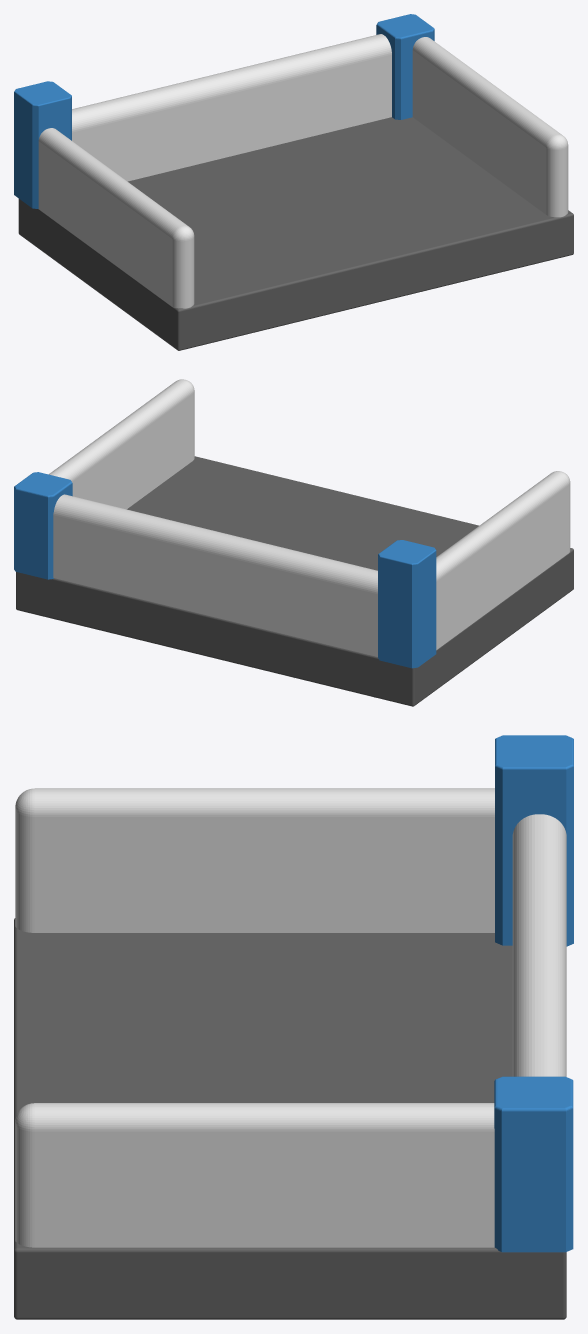
The model's file is LiveRoom.fbx.
3 renders of one model, top to bottom at view 1: azimuth 30°, elevation 25°; view 2: azimuth 150°, elevation 25°; view 3: azimuth 270°, elevation 25°, orthographic. The views are drawn at different scales.
Visible parts, largest first — view 1: Cube, Cube.003, Cube.001, Cube.002, Cube.004, Cube.005; view 2: Cube, Cube.003, Cube.001, Cube.002, Cube.004, Cube.005; view 3: Cube, Cube.001, Cube.002, Cube.003, Cube.005, Cube.004.
Boxes of the visible parts, x1,y1,x2,y2 form: Cube: (18, 117, 573, 350); Cube.003: (72, 34, 391, 181); Cube.001: (38, 128, 194, 308); Cube.002: (412, 37, 568, 217); Cube.004: (14, 81, 71, 208); Cube.005: (376, 14, 434, 119); Cube: (16, 456, 573, 706); Cube.003: (53, 494, 377, 656); Cube.001: (436, 471, 570, 649); Cube.002: (49, 379, 194, 509); Cube.004: (378, 540, 436, 668); Cube.005: (14, 472, 72, 579); Cube: (14, 918, 566, 1319); Cube.001: (15, 788, 494, 932); Cube.002: (15, 1103, 494, 1247); Cube.003: (512, 814, 566, 1076); Cube.005: (494, 1076, 573, 1252); Cube.004: (495, 735, 573, 946).
Bounding box in the file's own units: 2028 × 696 × 1418.
